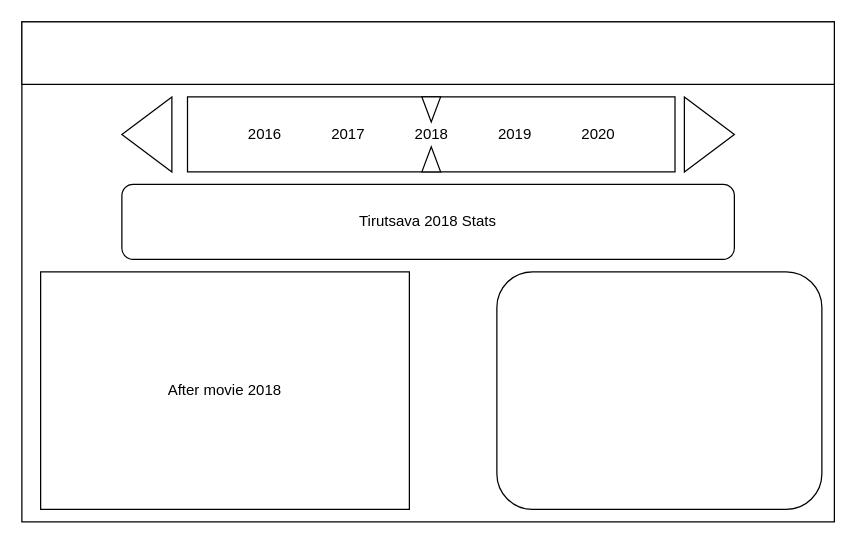
Some shapes in this 856 by 544 pixel diagram are drawn without their labels. Here are the shapes that lost their labels. From the top down, the centre of each, then its label:
At (x=427, y=52): "NavBar".
At (x=659, y=390): "Photo Collage 2018/some writeup".
